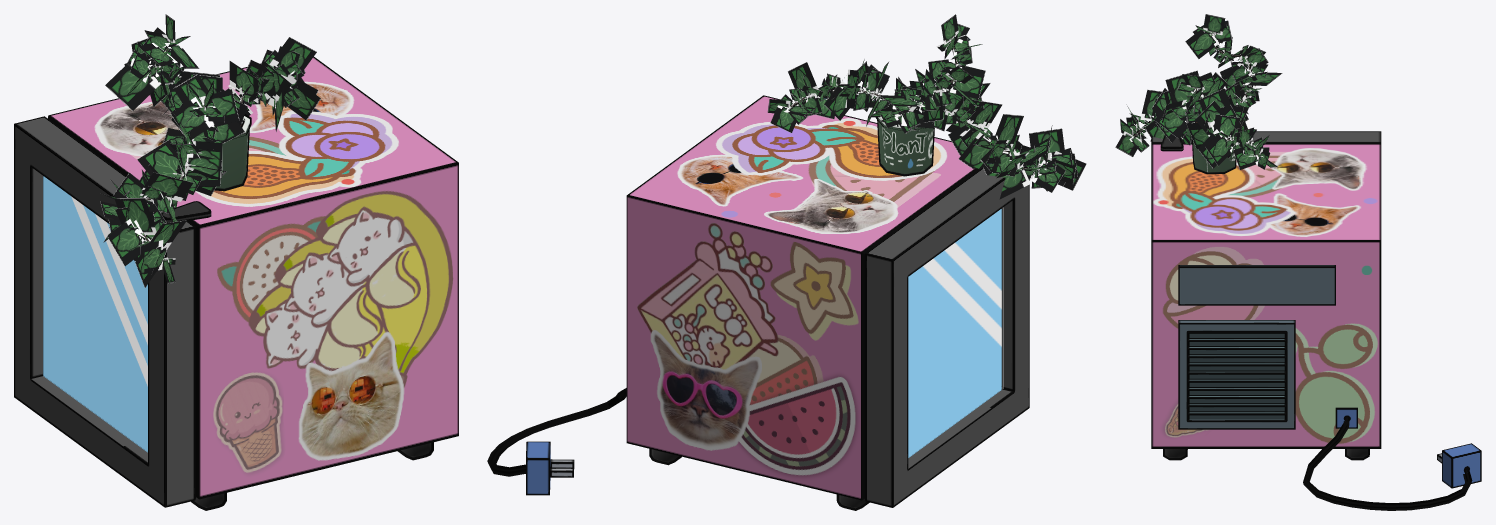
The model's file is mini_fridge.glb.
3 views of the same model, side by side, from view 1: azimuth 30°, elevation 25°; view 2: azimuth 150°, elevation 25°; view 3: azimuth 270°, elevation 25° (orthographic). The views are drawn at different scales.
Visible parts, largest first — view 1: Body, Leafs, Window, Pot, Legs, Hinges; view 2: Body, Leafs, Window, Pot, Plug, Cord, Legs; view 3: Body, Leafs, Mechanics, Vent, Cord, Plug, Pot, Legs.
Part boxes in pixels (x1=…): Body: x1=14, y1=56, x2=458, y2=507; Leafs: x1=100, y1=14, x2=320, y2=287; Window: x1=43, y1=176, x2=147, y2=452; Pot: x1=214, y1=114, x2=251, y2=191; Legs: x1=191, y1=442, x2=433, y2=510; Hinges: x1=161, y1=201, x2=211, y2=222; Body: x1=626, y1=95, x2=1029, y2=507; Leafs: x1=767, y1=14, x2=1086, y2=199; Window: x1=908, y1=207, x2=1003, y2=457; Pot: x1=875, y1=106, x2=934, y2=176; Plug: x1=526, y1=441, x2=574, y2=495; Cord: x1=487, y1=388, x2=626, y2=476; Legs: x1=649, y1=448, x2=869, y2=510; Body: x1=1151, y1=131, x2=1381, y2=448; Leafs: x1=1115, y1=14, x2=1282, y2=169; Mechanics: x1=1178, y1=265, x2=1357, y2=429; Vent: x1=1188, y1=332, x2=1285, y2=419; Cord: x1=1303, y1=417, x2=1472, y2=510; Plug: x1=1437, y1=443, x2=1481, y2=488; Pot: x1=1190, y1=115, x2=1236, y2=174; Legs: x1=1163, y1=449, x2=1369, y2=460.
Bounding box in the file's own units: 3.6 × 3.47 × 3.19.
5 materials, 4 textured.
